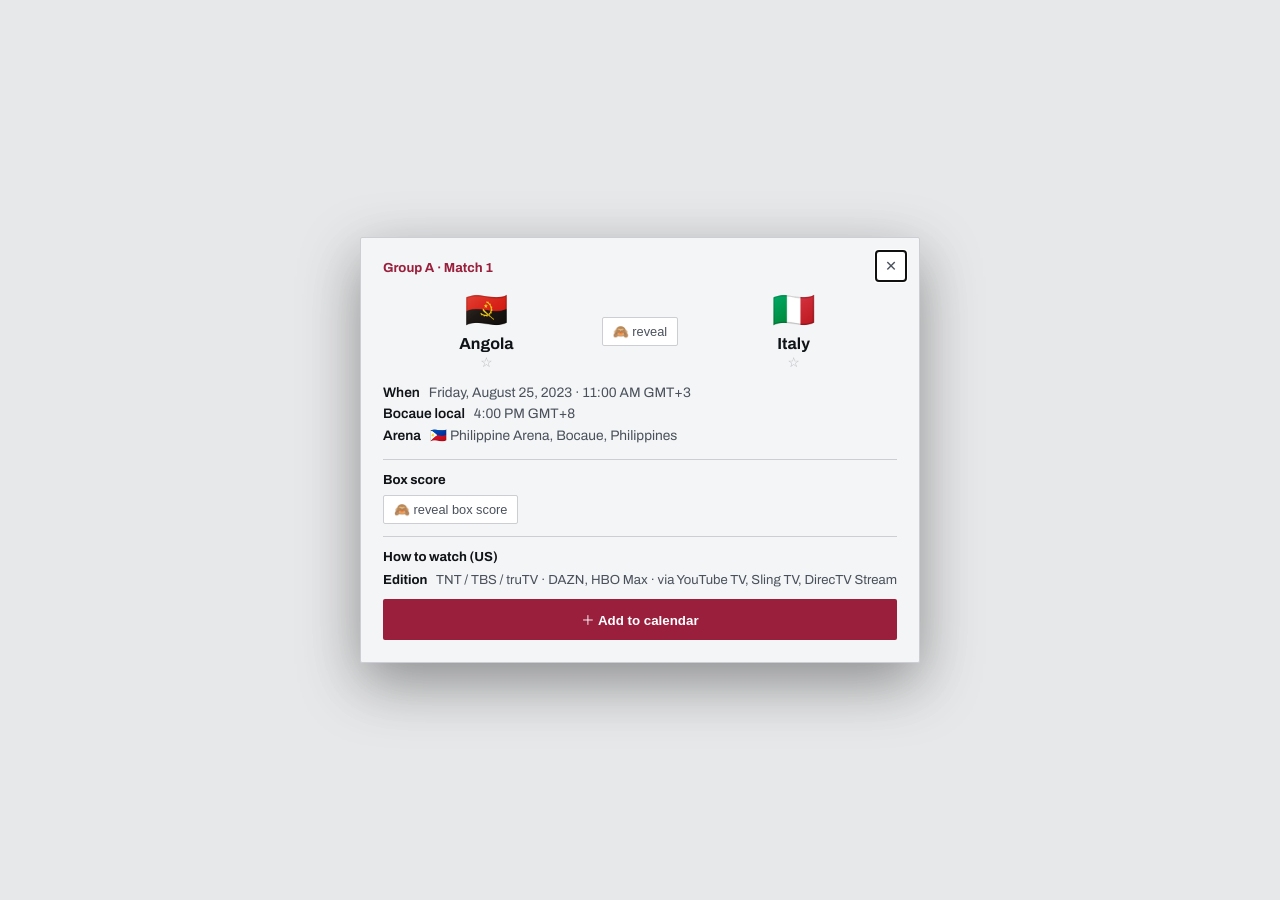
Test: spoiler-free and follow paths in the detail modal › hides the score behind a reveal
Expected: the text "88" is not shown
Click the button "🙈 reveal". click: (640, 332)
box: [602,318,678,346]
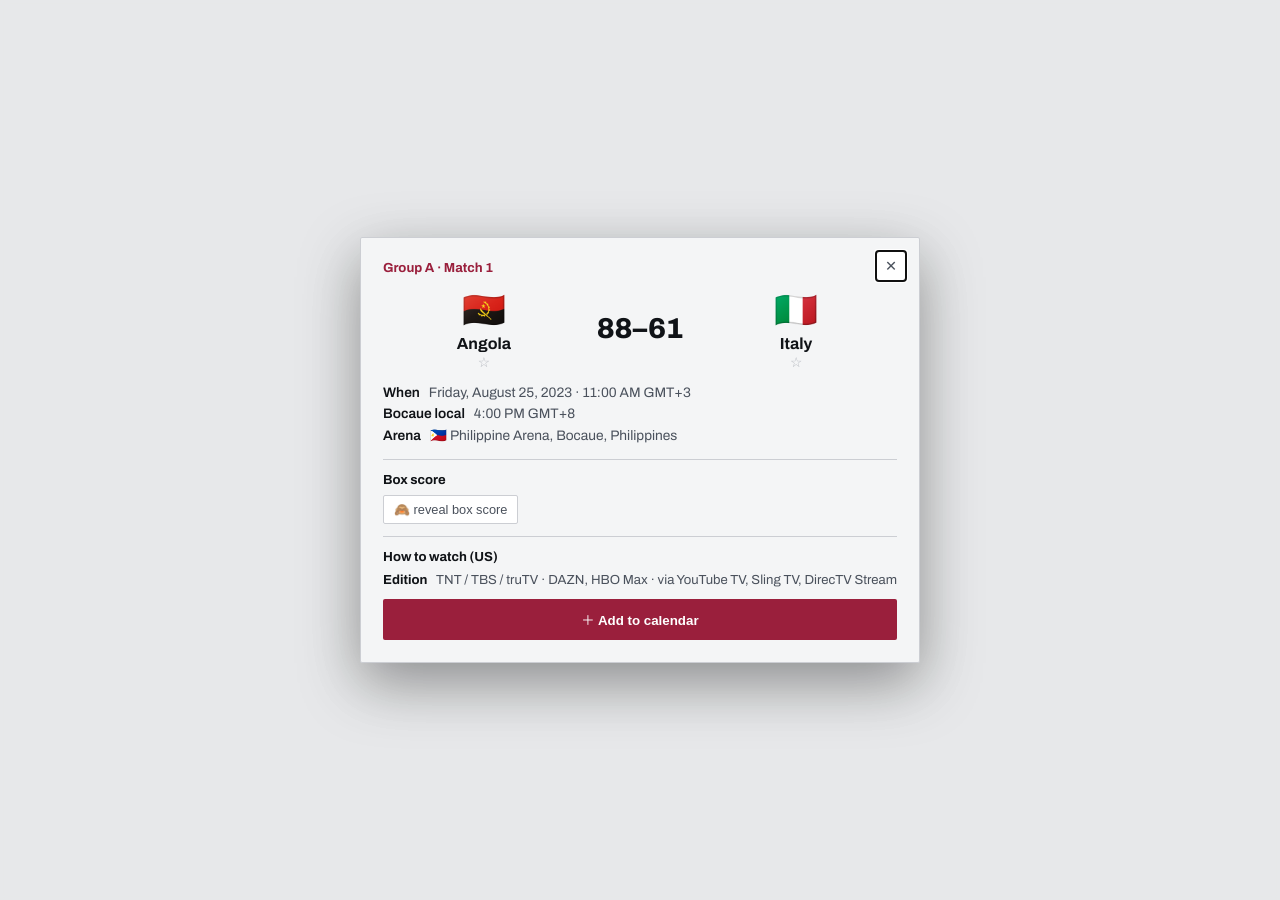
Now the text "88" is shown, box [597,314,633,344]
